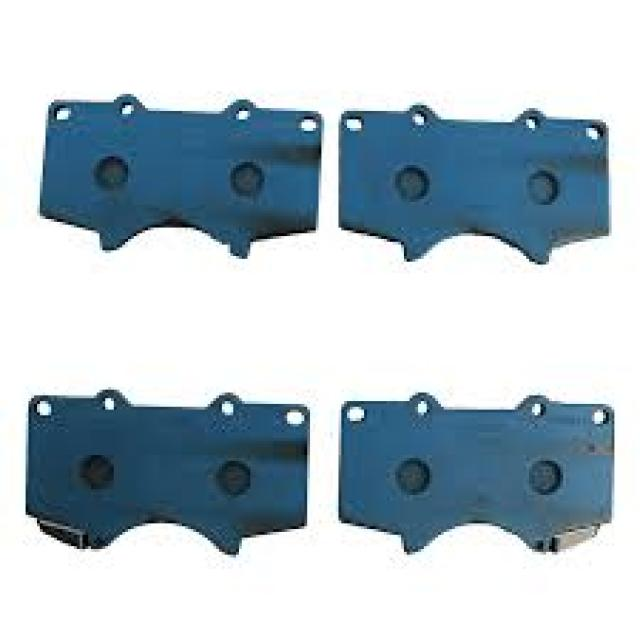brake_pad: (336, 378, 622, 568), (18, 387, 316, 562), (26, 96, 327, 266), (338, 96, 619, 275)
